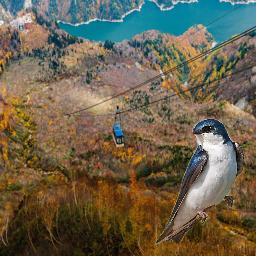Swallow: (155, 117, 245, 245)
